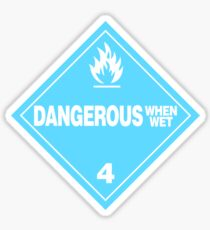DangerousWhenWet: (12, 24, 207, 207)
